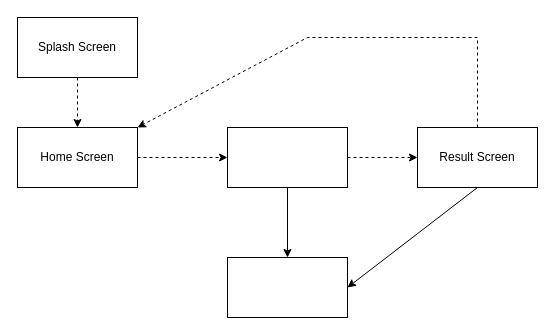
Image size: 555x335. Some labels were removed from this diagram. Each missing label, with the centre of its shape:
"Error Screen" goes at (x=287, y=287).
"Give Bike Back Screen" goes at (x=287, y=157).
